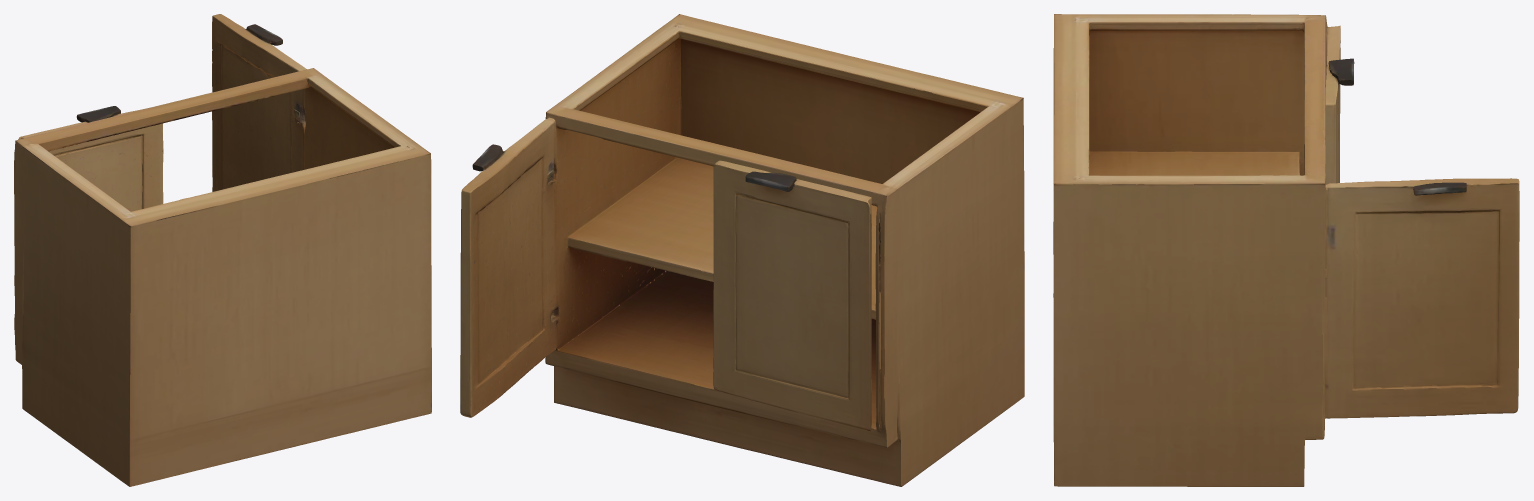
The picture shows the model from 3 angles, left to right: view 1: azimuth 30°, elevation 25°; view 2: azimuth 150°, elevation 25°; view 3: azimuth 270°, elevation 25°; orthographic projection. The views are drawn at different scales.
Parts seen in each view (by area): view 1: geometry_0, visual__2__right_door, visual__1__left_door; view 2: geometry_0, visual__1__left_door, visual__2__right_door; view 3: geometry_0, visual__2__right_door, visual__1__left_door.
Boxes of the visible parts, left/top/right/bottom form: geometry_0: left=14, top=68, right=431, bottom=486; visual__2__right_door: left=212, top=14, right=306, bottom=191; visual__1__left_door: left=18, top=106, right=163, bottom=211; geometry_0: left=544, top=14, right=1024, bottom=486; visual__1__left_door: left=713, top=160, right=871, bottom=431; visual__2__right_door: left=460, top=120, right=554, bottom=417; geometry_0: left=1053, top=14, right=1332, bottom=486; visual__2__right_door: left=1332, top=178, right=1519, bottom=418; visual__1__left_door: left=1325, top=25, right=1354, bottom=184.
Bounding box in the file's own units: 1.05 × 0.85 × 1.18.
1 material, 1 textured.
